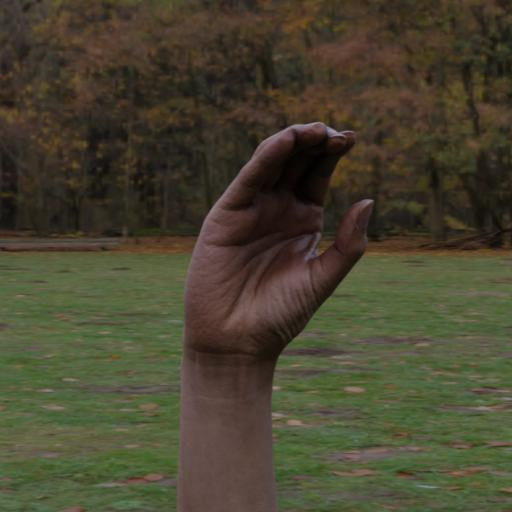C: (181, 119, 379, 347)
